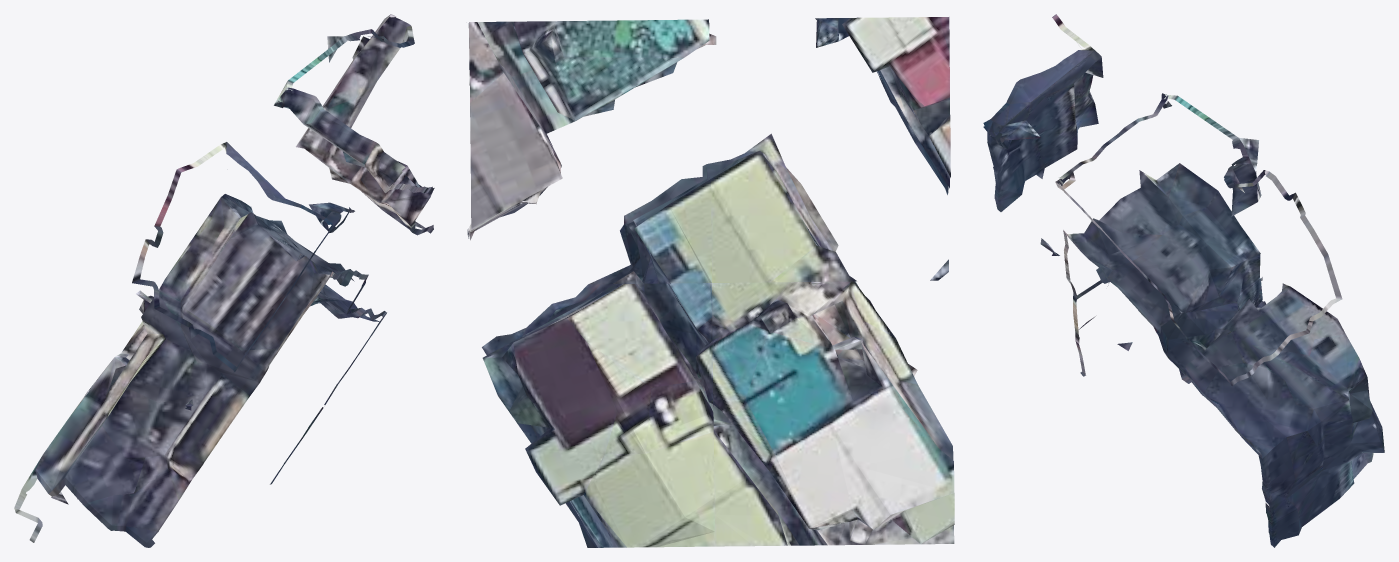
3 views of the same model, side by side, from view 1: azimuth 30°, elevation 25°; view 2: azimuth 150°, elevation 25°; view 3: azimuth 270°, elevation 25° (orthographic). The views are drawn at different scales.
Bounding box in the file's own units: 39.88 × 39.64 × 33.02.
2 materials, 2 textured.
